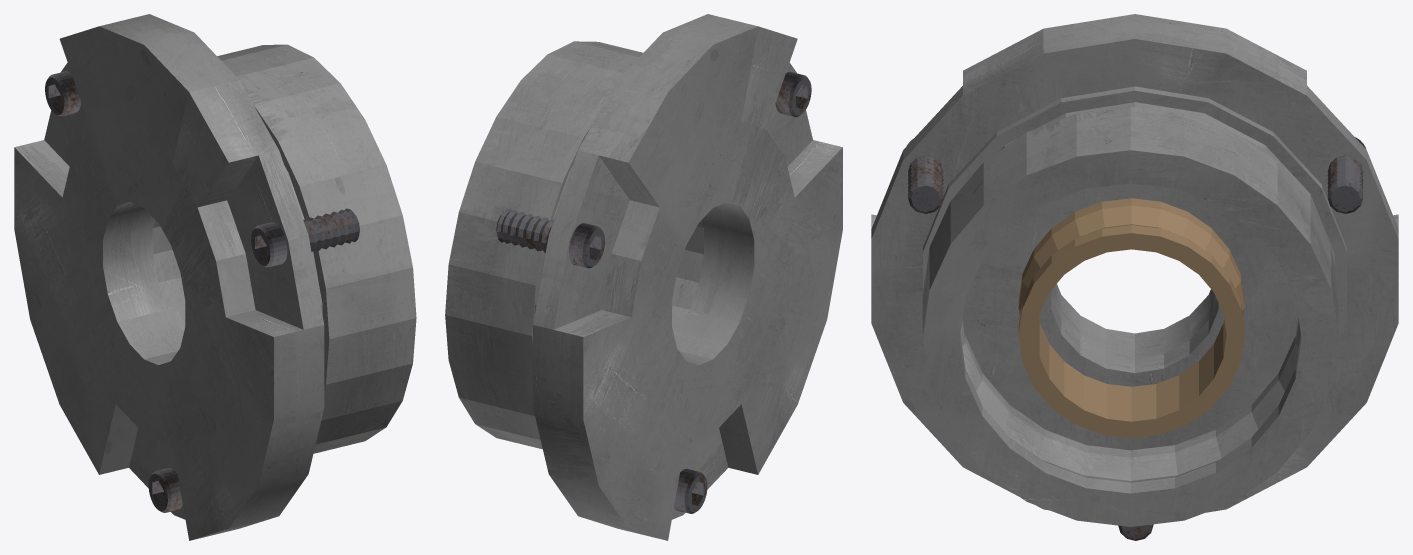
File: Pump@Bearing.fbx
3 renders of one model, left to right at view 1: azimuth 30°, elevation 25°; view 2: azimuth 150°, elevation 25°; view 3: azimuth 270°, elevation 25°, orthographic.
Parts seen in each view (by area): view 1: Bearing.001; view 2: Bearing.001; view 3: Bearing.001.
Boxes of the visible parts, x1,y1,x2,y2 form: Bearing.001: (14, 14, 416, 540); Bearing.001: (445, 14, 842, 540); Bearing.001: (871, 14, 1398, 540).
Size of the model in its own units: 28.13 by 76.47 by 75.31.
